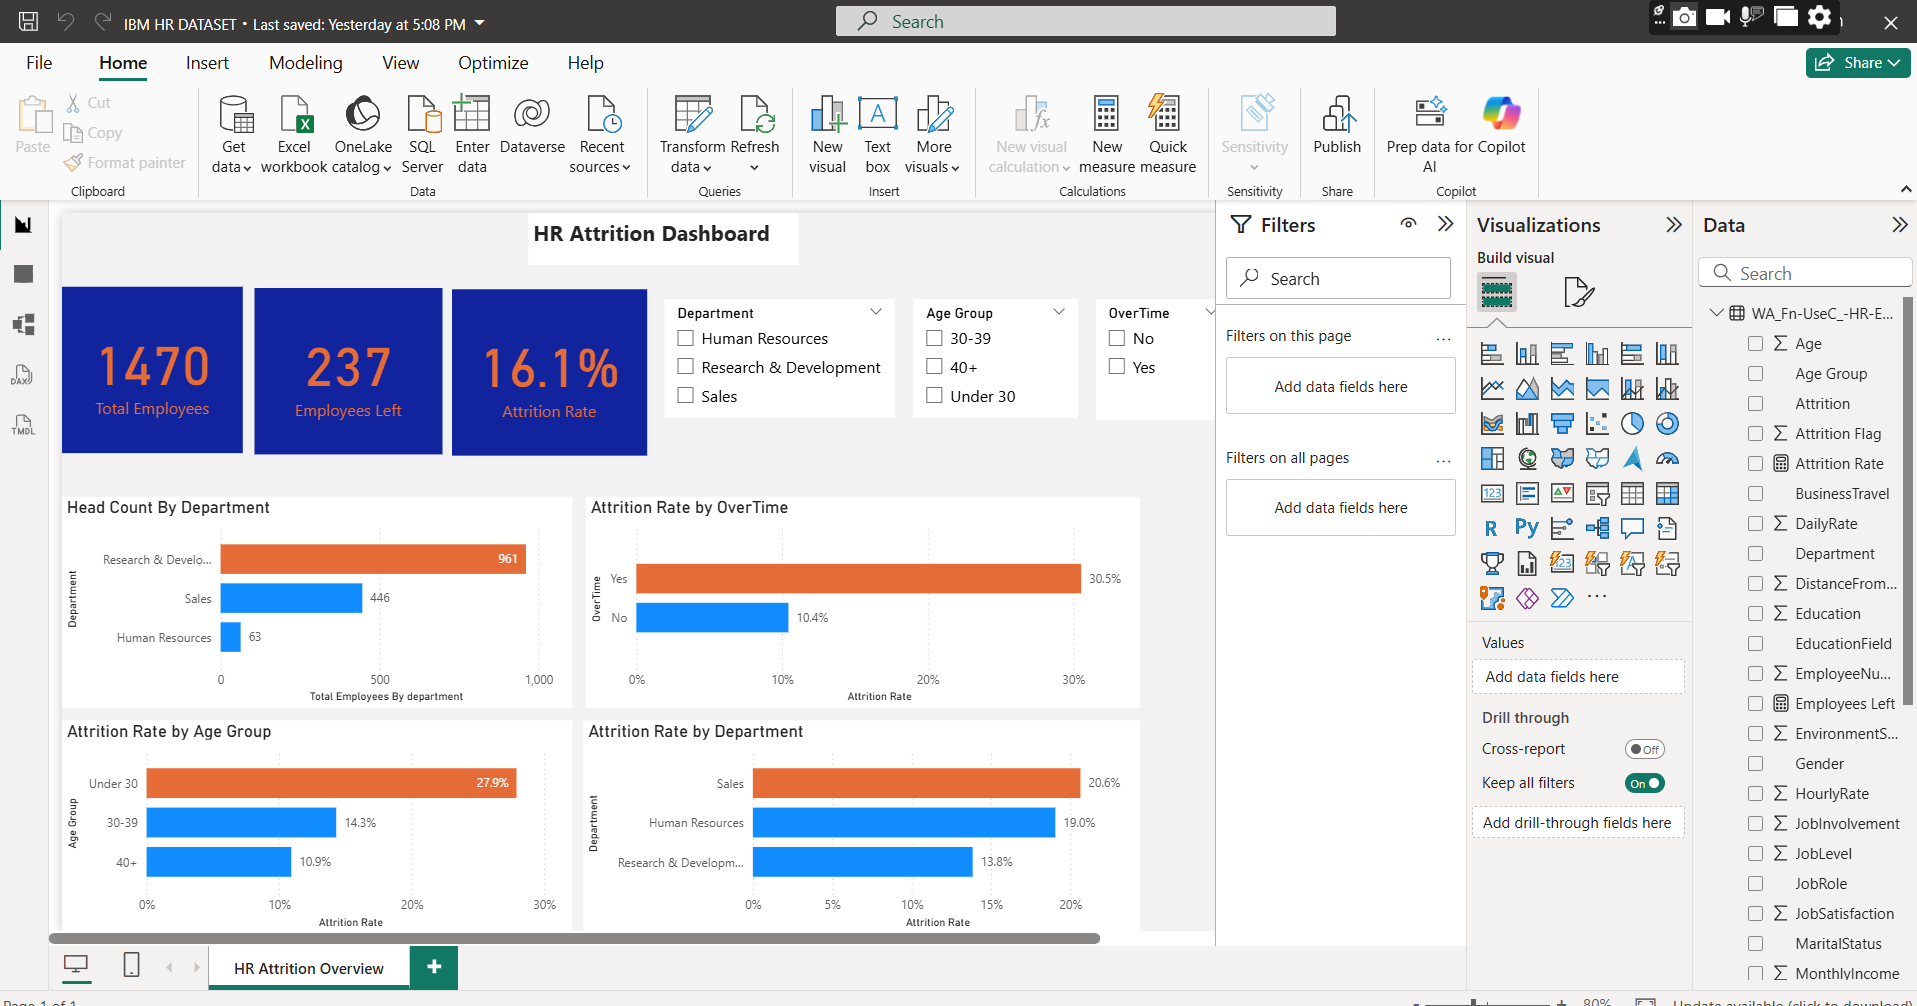

This screenshot's page, from the dashboard's own definition file:
{"tool":"powerbi","page":{"name":"HR Attrition Overview","canvas":[1280,720],"ordinal":0},"visuals":[{"type":"barChart","title":"Head Count By Department","fields":{"Category":["WA_Fn-UseC_-HR-Employee-Attriti.Department"],"Y":["Count(WA_Fn-UseC_-HR-Employee-Attriti.EmployeeNumber)"]},"box":[0,284,510.5,211.3],"z":0},{"type":"card","fields":{"Values":["WA_Fn-UseC_-HR-Employee-Attriti.TotalEmployees"]},"box":[0,74.1,181.1,166],"z":1},{"type":"card","fields":{"Values":["WA_Fn-UseC_-HR-Employee-Attriti.EmployeesLeft"]},"box":[192.1,75.5,188,166],"z":2},{"type":"card","fields":{"Values":["WA_Fn-UseC_-HR-Employee-Attriti.AttritionRate"]},"box":[389.7,76.8,194.9,166],"z":3},{"type":"barChart","fields":{"Category":["WA_Fn-UseC_-HR-Employee-Attriti.Department"],"Y":["WA_Fn-UseC_-HR-Employee-Attriti.AttritionRate"]},"box":[521.4,507.7,557.1,212.7],"z":4},{"type":"barChart","fields":{"Category":["WA_Fn-UseC_-HR-Employee-Attriti.Age Group"],"Y":["WA_Fn-UseC_-HR-Employee-Attriti.AttritionRate"]},"box":[0,507.7,510.5,212.7],"z":5},{"type":"slicer","fields":{"Values":["WA_Fn-UseC_-HR-Employee-Attriti.Department"]},"box":[602.4,86.4,230.5,118],"z":6},{"type":"slicer","fields":{"Values":["WA_Fn-UseC_-HR-Employee-Attriti.OverTime"]},"box":[1033.3,86.4,134.5,120.8],"z":7},{"type":"slicer","fields":{"Values":["WA_Fn-UseC_-HR-Employee-Attriti.Age Group"]},"box":[850.8,86.4,164.7,118],"z":8},{"type":"textbox","box":[466.6,0,270.3,52.1],"z":9},{"type":"clusteredBarChart","title":"Attrition Rate by OverTime","fields":{"Category":["WA_Fn-UseC_-HR-Employee-Attriti.OverTime"],"Y":["WA_Fn-UseC_-HR-Employee-Attriti.Attrition Rate"]},"box":[524.2,284,554.4,211.3],"z":10}]}

Visuals, with their boxes on the page's 1280x720 design canvas (x1, y1, x2, y2). These are canvas units, not pixel positions in the 1917x1006 screenshot, which may show the page scaled, cropped or inside an application window:
"Head Count By Department" barChart: Rect(0, 284, 510, 495)
card - WA_Fn-UseC_-HR-Employee-Attriti.TotalEmployees: Rect(0, 74, 181, 240)
card - WA_Fn-UseC_-HR-Employee-Attriti.EmployeesLeft: Rect(192, 76, 380, 242)
card - WA_Fn-UseC_-HR-Employee-Attriti.AttritionRate: Rect(390, 77, 585, 243)
barChart - WA_Fn-UseC_-HR-Employee-Attriti.Department x WA_Fn-UseC_-HR-Employee-Attriti.AttritionRate: Rect(521, 508, 1078, 720)
barChart - WA_Fn-UseC_-HR-Employee-Attriti.Age Group x WA_Fn-UseC_-HR-Employee-Attriti.AttritionRate: Rect(0, 508, 510, 720)
slicer - WA_Fn-UseC_-HR-Employee-Attriti.Department: Rect(602, 86, 833, 204)
slicer - WA_Fn-UseC_-HR-Employee-Attriti.OverTime: Rect(1033, 86, 1168, 207)
slicer - WA_Fn-UseC_-HR-Employee-Attriti.Age Group: Rect(851, 86, 1016, 204)
textbox: Rect(467, 0, 737, 52)
"Attrition Rate by OverTime" clusteredBarChart: Rect(524, 284, 1079, 495)
